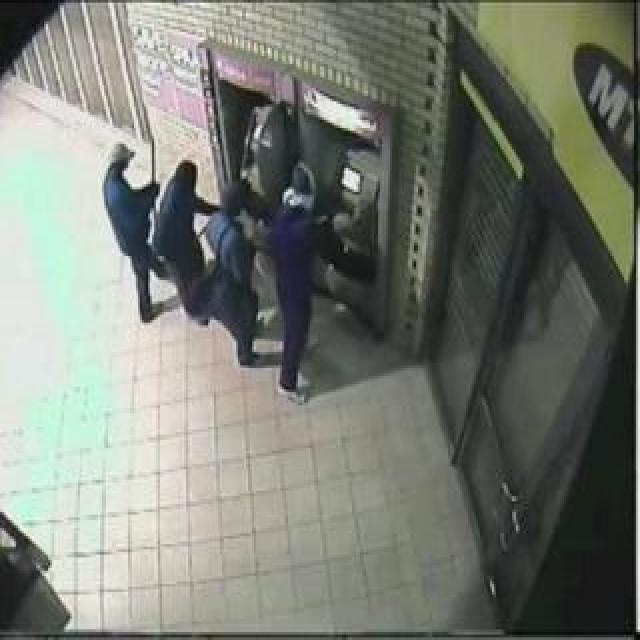thief: (84, 137, 336, 278)
